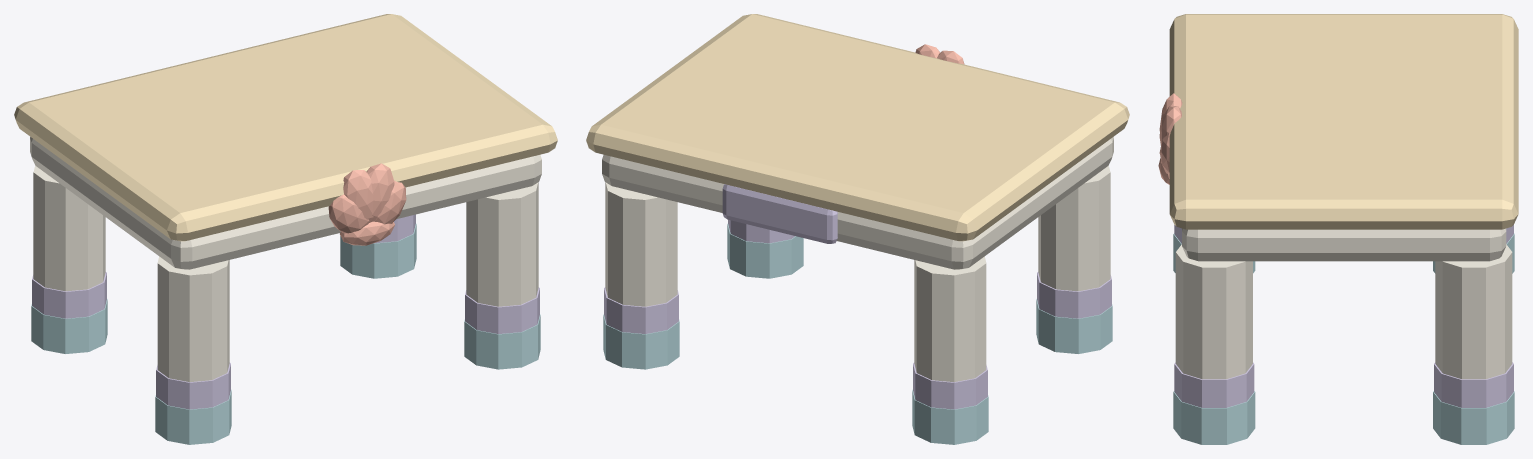
The model's file is pearl_table.glb.
The picture shows the model from 3 angles, left to right: view 1: azimuth 30°, elevation 25°; view 2: azimuth 150°, elevation 25°; view 3: azimuth 270°, elevation 25°; orthographic projection. The views are drawn at different scales.
Parts seen in each view (by area): view 1: table_top, table_apron, table_leg_fl, table_leg_fr, table_leg_bl, table_leg_fr_foot, table_leg_fl_foot, table_leg_bl_foot, table_leg_br_foot, table_leg_fr_band, table_leg_fl_band, table_leg_bl_band (+6 smaller); view 2: table_top, table_apron, table_leg_bl, table_leg_br, table_leg_fl, table_band, table_leg_br_foot, table_leg_bl_foot, table_leg_fl_foot, table_leg_fr_foot, table_leg_br_band, table_leg_bl_band (+2 smaller); view 3: table_top, table_apron, table_leg_fr, table_leg_br, table_leg_fr_foot, table_leg_br_foot, table_leg_fr_band, table_leg_br_band, table_shell_2.
Boxes of the visible parts, x1,y1,x2,y2 form: table_top: (14,14,557,241); table_apron: (30,137,541,269); table_leg_fl: (157,256,229,382); table_leg_fr: (466,182,538,306); table_leg_bl: (33,165,105,291); table_leg_fr_foot: (464,314,540,369); table_leg_fl_foot: (155,389,231,444); table_leg_bl_foot: (31,299,107,353); table_leg_br_foot: (340,223,416,278); table_leg_fr_band: (465,287,539,333); table_leg_fl_band: (156,362,230,409); table_leg_bl_band: (32,272,106,318); table_top: (586,14,1129,241); table_apron: (602,137,1113,269); table_leg_bl: (914,256,986,382); table_leg_br: (605,182,677,306); table_leg_fl: (1038,165,1110,291); table_band: (722,184,837,243); table_leg_br_foot: (603,314,679,369); table_leg_bl_foot: (912,389,988,444); table_leg_fl_foot: (1036,299,1112,353); table_leg_fr_foot: (727,223,803,278); table_leg_br_band: (604,287,678,333); table_leg_bl_band: (913,362,987,409); table_top: (1169,14,1518,229); table_apron: (1182,228,1506,261); table_leg_fr: (1175,244,1252,379); table_leg_br: (1435,244,1512,379); table_leg_fr_foot: (1173,391,1255,444); table_leg_br_foot: (1433,391,1514,444); table_leg_fr_band: (1174,362,1254,407); table_leg_br_band: (1434,362,1513,407); table_shell_2: (1159,106,1181,145).
Size of the model in its own units: 1.16 by 0.6782 by 0.8878.
